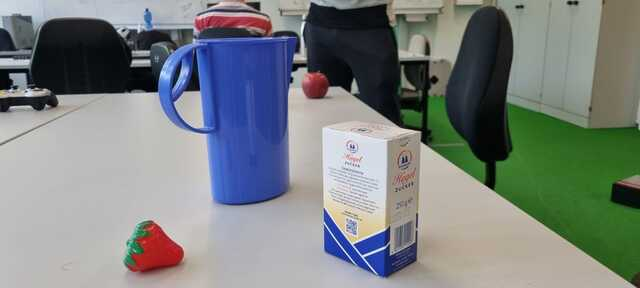004_sugar_box: (319, 118, 425, 279)
012_strawberry: (121, 218, 189, 276)
013_apple: (298, 68, 332, 101)
019_pitcher_base: (157, 34, 301, 206)
